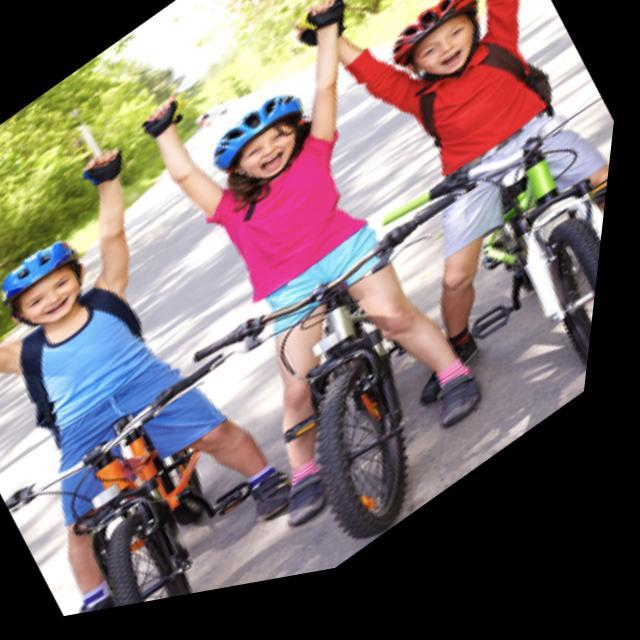Helmet: (200, 80, 314, 191), (384, 0, 490, 87), (0, 236, 104, 291)
